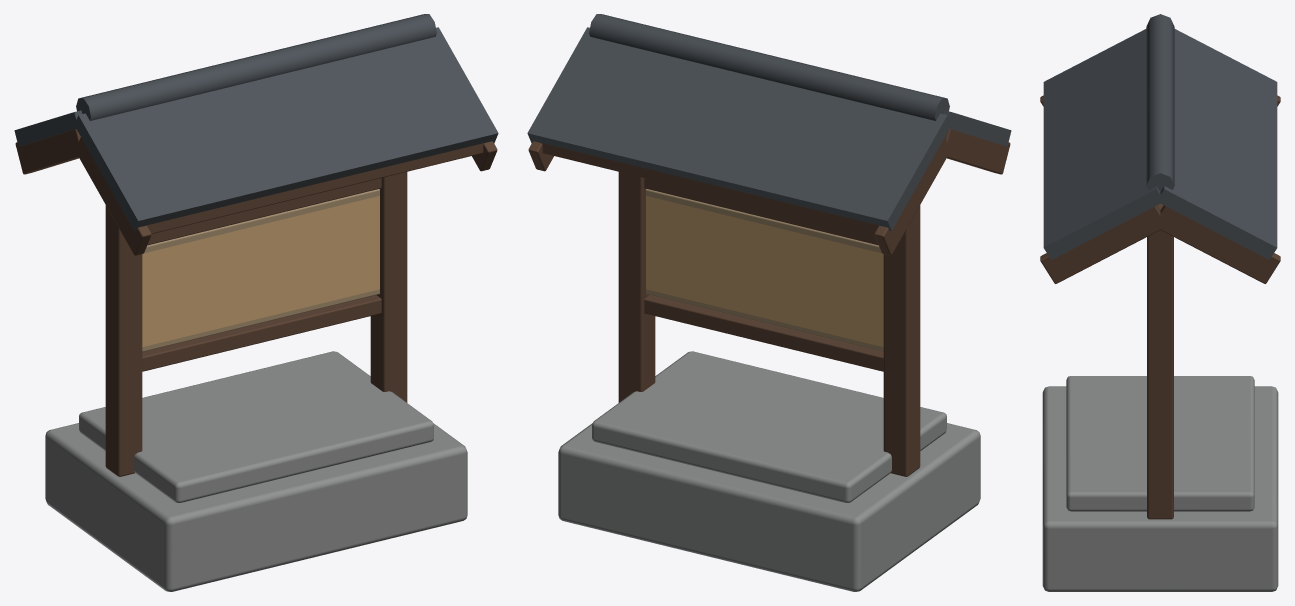
The model's file is village-notice.glb.
The picture shows the model from 3 angles, left to right: view 1: azimuth 30°, elevation 25°; view 2: azimuth 150°, elevation 25°; view 3: azimuth 270°, elevation 25°; orthographic projection. The views are drawn at different scales.
Visible parts, largest first — view 1: village-stone, village-roof, village-cedar, village-writing, planks; view 2: village-stone, village-roof, village-cedar, village-writing, planks; view 3: village-stone, village-roof, village-cedar.
Boxes of the visible parts, <box> form: village-stone: <box>45,351,467,591</box>; village-roof: <box>14,14,498,230</box>; village-cedar: <box>15,129,497,476</box>; village-writing: <box>142,196,379,346</box>; planks: <box>142,189,379,351</box>; village-stone: <box>558,351,980,591</box>; village-roof: <box>527,14,1011,230</box>; village-cedar: <box>528,129,1010,476</box>; village-writing: <box>646,196,883,346</box>; planks: <box>646,189,883,351</box>; village-stone: <box>1042,376,1278,591</box>; village-roof: <box>1043,14,1277,259</box>; village-cedar: <box>1040,95,1280,519</box>.
Bounding box in the file's own units: 2.5 × 3.03 × 1.53.
